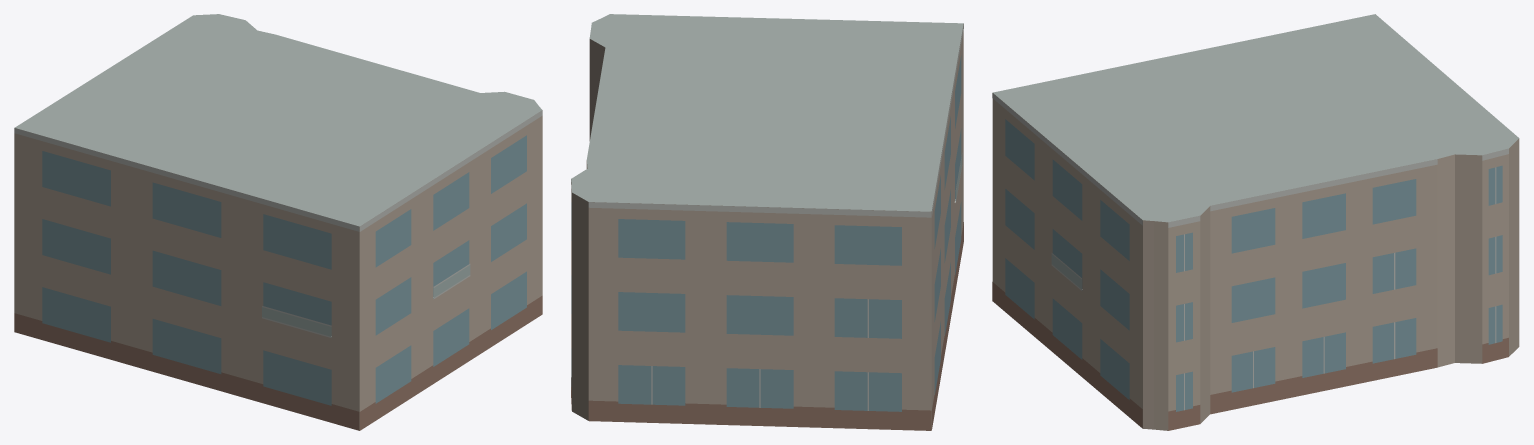
Rendered from survey-upis-32840629.glb.
3 views of the same model, side by side, from view 1: azimuth 30°, elevation 25°; view 2: azimuth 150°, elevation 25°; view 3: azimuth 270°, elevation 25° (orthographic). The views are drawn at different scales.
Parts seen in each view (by area): view 1: survey-upis-32840629.tmp; view 2: survey-upis-32840629.tmp; view 3: survey-upis-32840629.tmp.
Part boxes in pixels (x1=…): survey-upis-32840629.tmp: x1=14, y1=14, x2=542, y2=430; survey-upis-32840629.tmp: x1=571, y1=14, x2=963, y2=430; survey-upis-32840629.tmp: x1=992, y1=14, x2=1519, y2=430.
Bounding box in the file's own units: 19.62 × 9.15 × 20.96.
